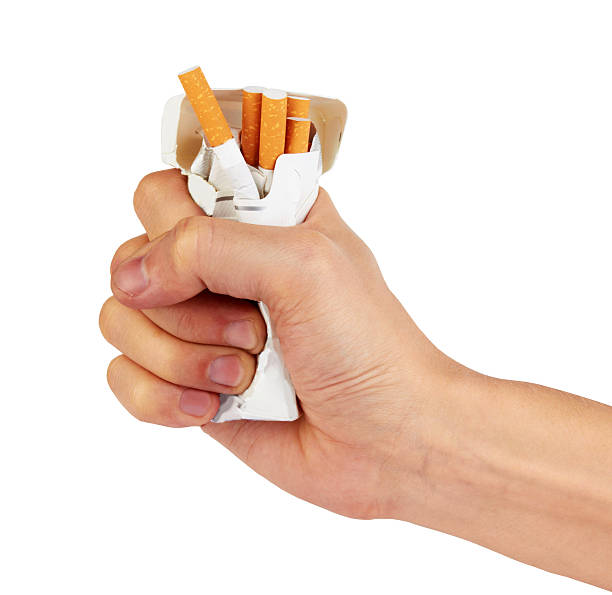cigarette: (159, 85, 349, 423), (177, 62, 263, 201), (257, 86, 289, 195), (240, 83, 265, 167), (285, 116, 313, 155), (286, 94, 312, 118)
